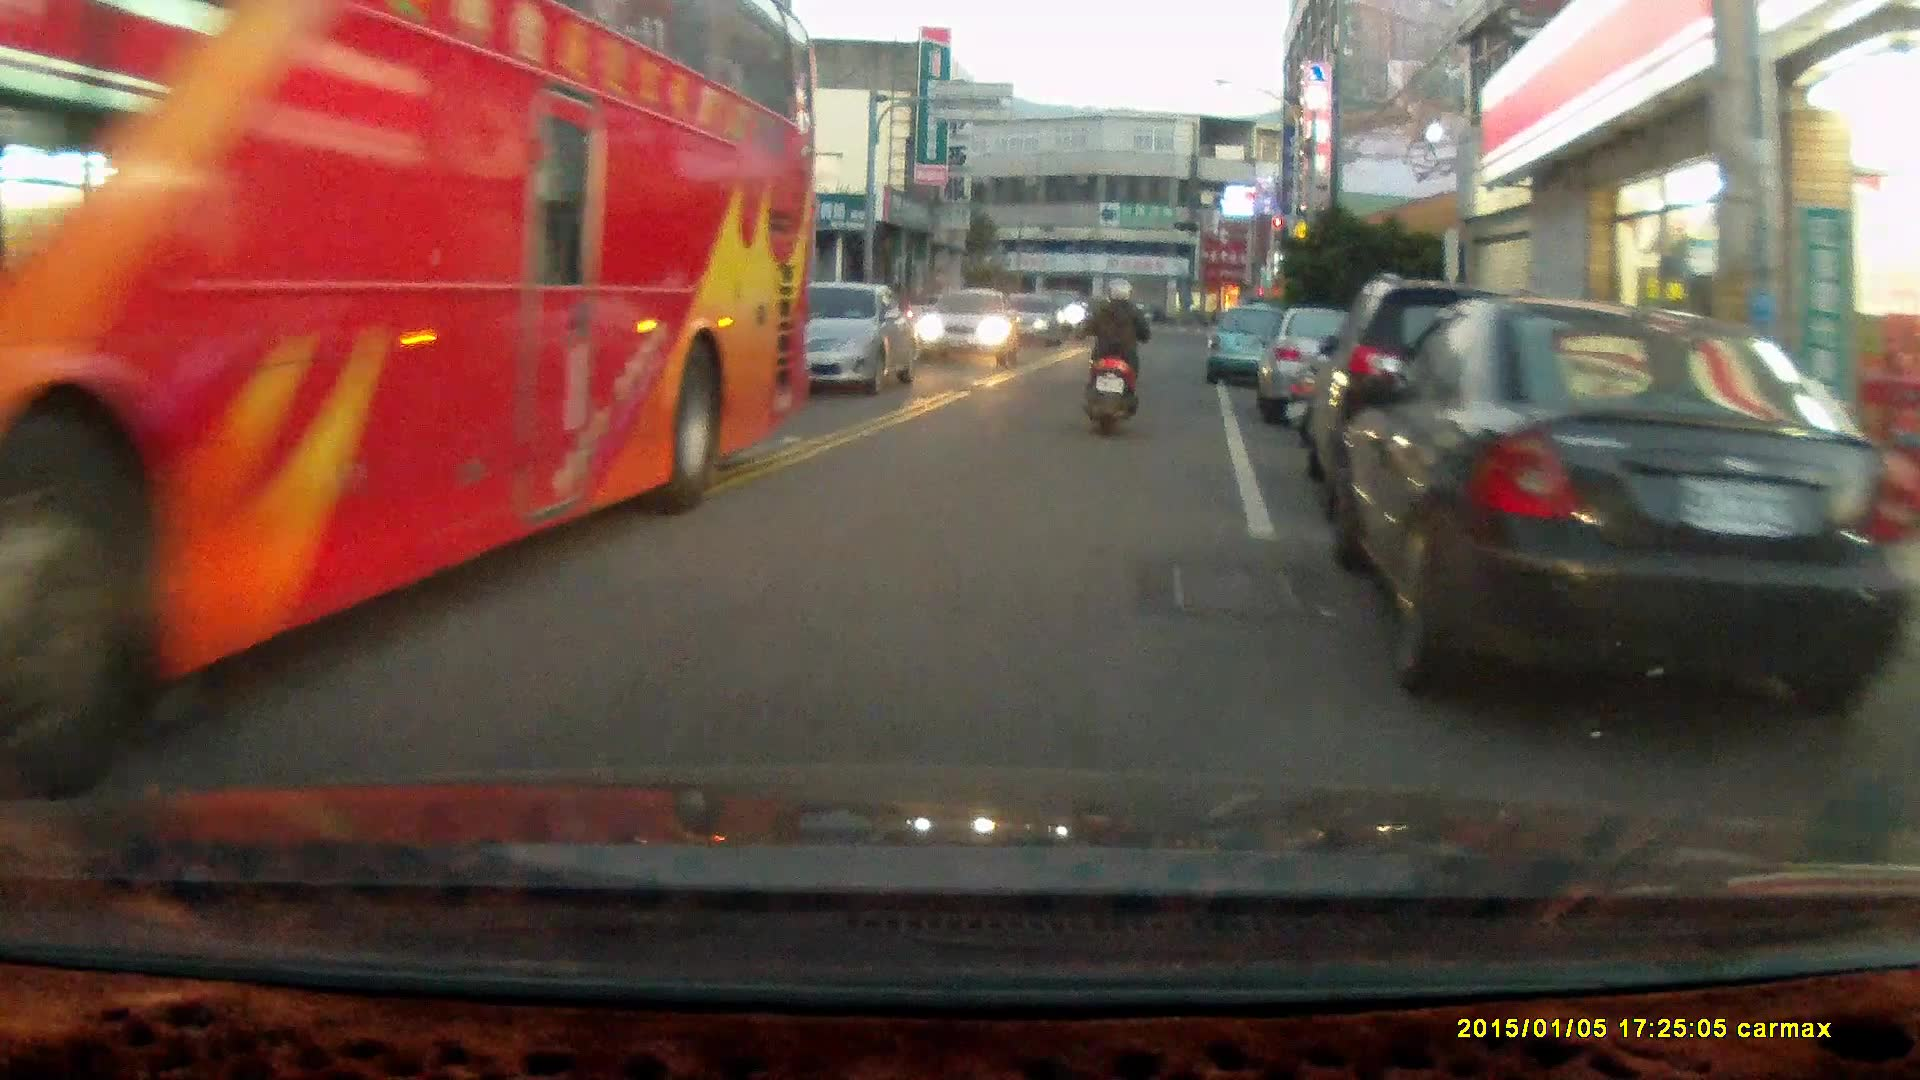rider: (1079, 276, 1152, 436)
vehicle: (1, 9, 822, 739), (1334, 301, 1910, 739), (1298, 270, 1559, 517), (1264, 304, 1450, 434), (748, 282, 915, 402), (918, 284, 1025, 366), (1207, 302, 1302, 388)
